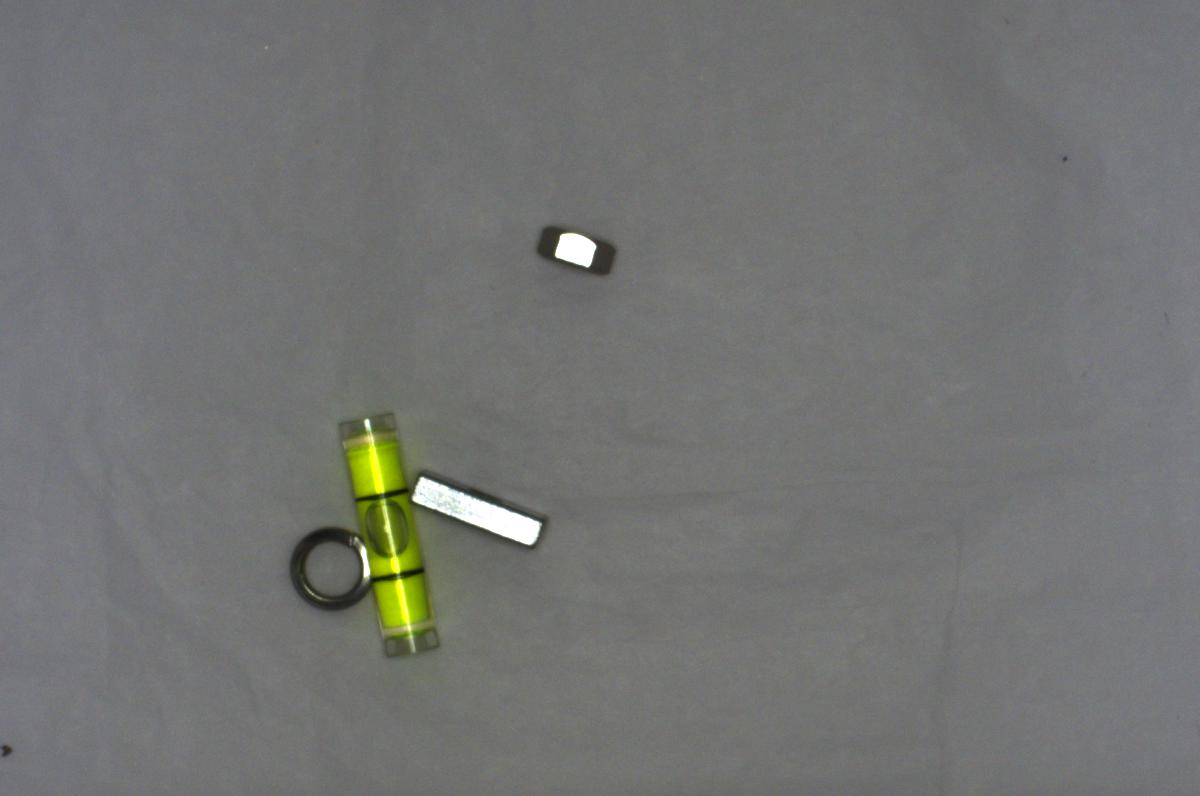Hexagon nut: (527, 213, 628, 290)
Horizontal bubble: (338, 401, 439, 662)
Rectangular nut: (410, 465, 548, 552)
Spring washer: (287, 518, 373, 615)
